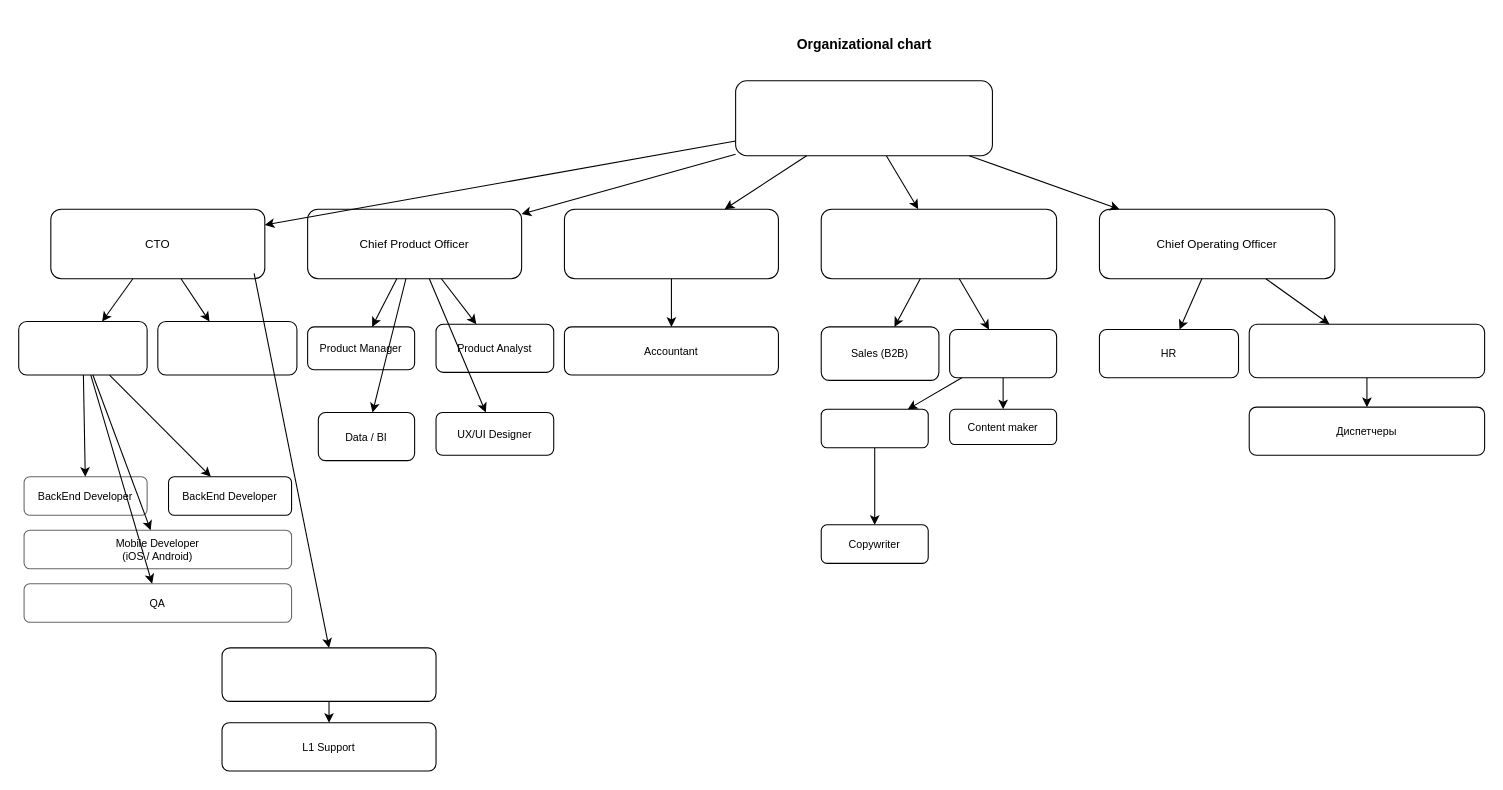
This 1503x790 diagram has some shape labels left out. The shapes that lost their labels are listed below. From the top down, each one's centre as x and y in pixels, then its label:
At [863,118]: "Руководитель сервиса доставки еды".
At [670,243]: "Chief Financial Officer".
At [938,243]: "Chief Business Development Officer".
At [82,347]: "Team Lead".
At [227,347]: "Архитектор решений".
At [1003,353]: "Marketer".
At [1366,350]: "Logistics".
At [874,428]: "SMM".
At [328,674]: "Support Lead".
